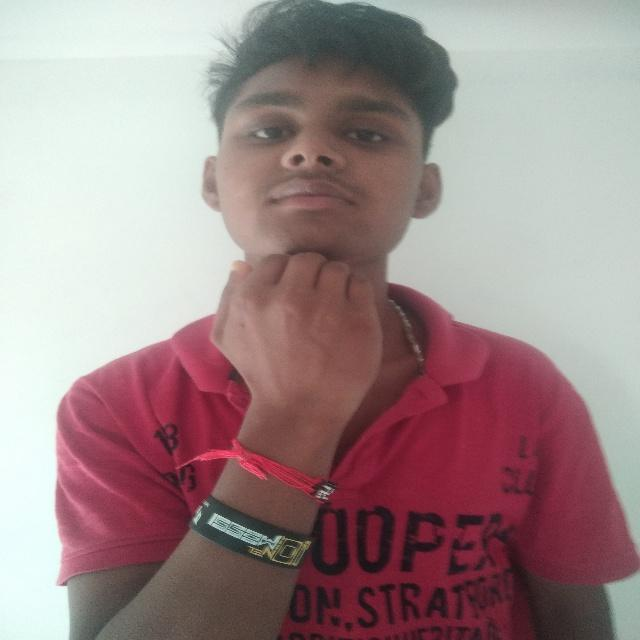Chin Flick: (179, 9, 470, 446)
